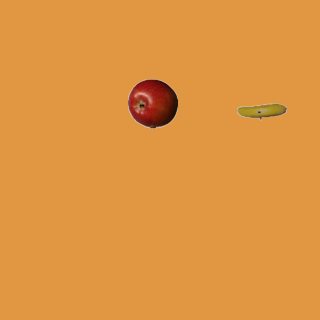Apple Braeburn: (127, 78, 177, 128)
Banana: (236, 86, 286, 136)
